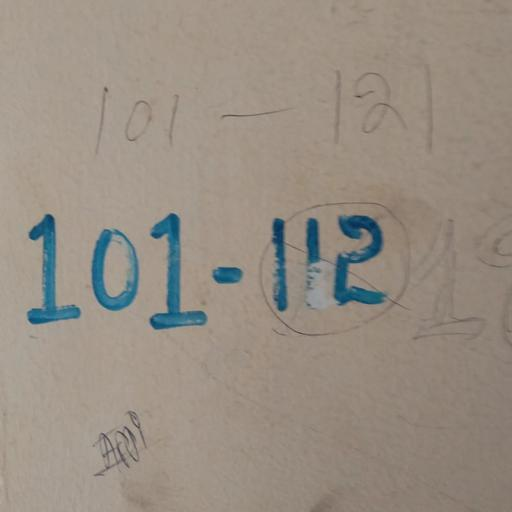stain: (20, 200, 512, 353), (77, 66, 454, 154), (70, 402, 219, 512)
